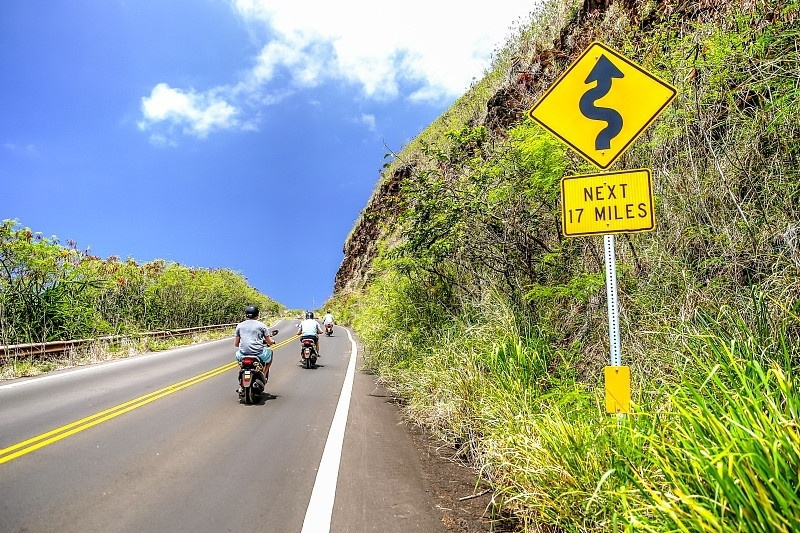non-vehicle: (234, 346, 272, 405), (299, 334, 320, 369)
